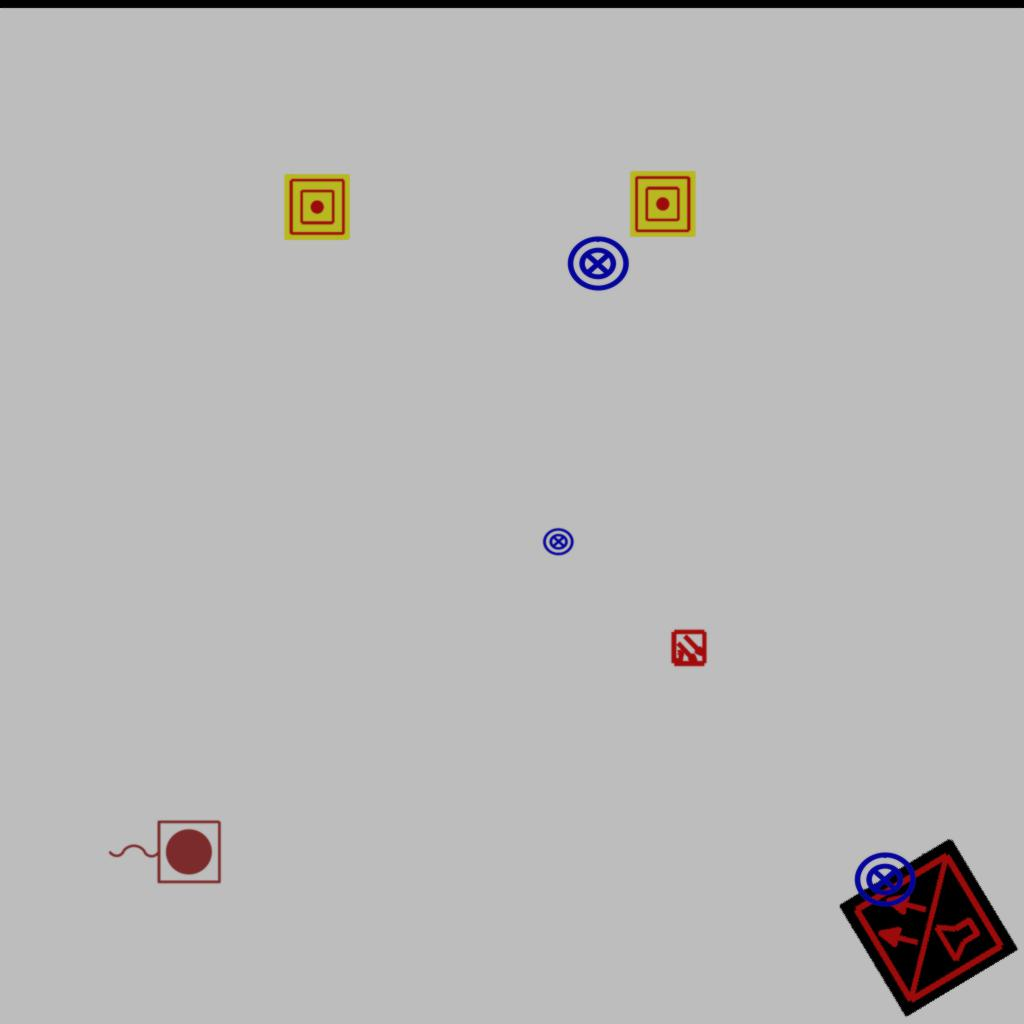NAM-Nichtautomatischer_Melder: (630, 171, 696, 237), (284, 174, 350, 240)
OKW_Multisensormelder_(Kombination_optischer_Rauch-Kahlenmonoxid_Waerme-Melder): (837, 836, 1019, 1018)
OT_Multisensormelder_(Kombination_RMO_WMD): (661, 621, 717, 677)
Taster_beleuchtet: (565, 231, 631, 297), (852, 847, 918, 913), (542, 525, 575, 558)
Zugtaster: (103, 815, 225, 887)
